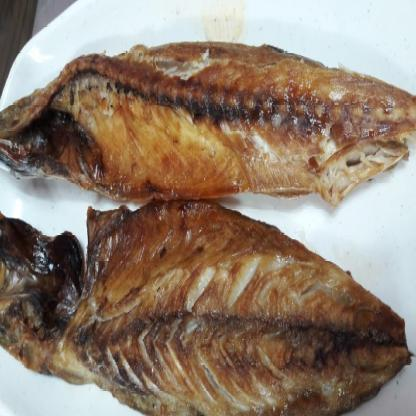Peixe: (0, 40, 416, 416)
